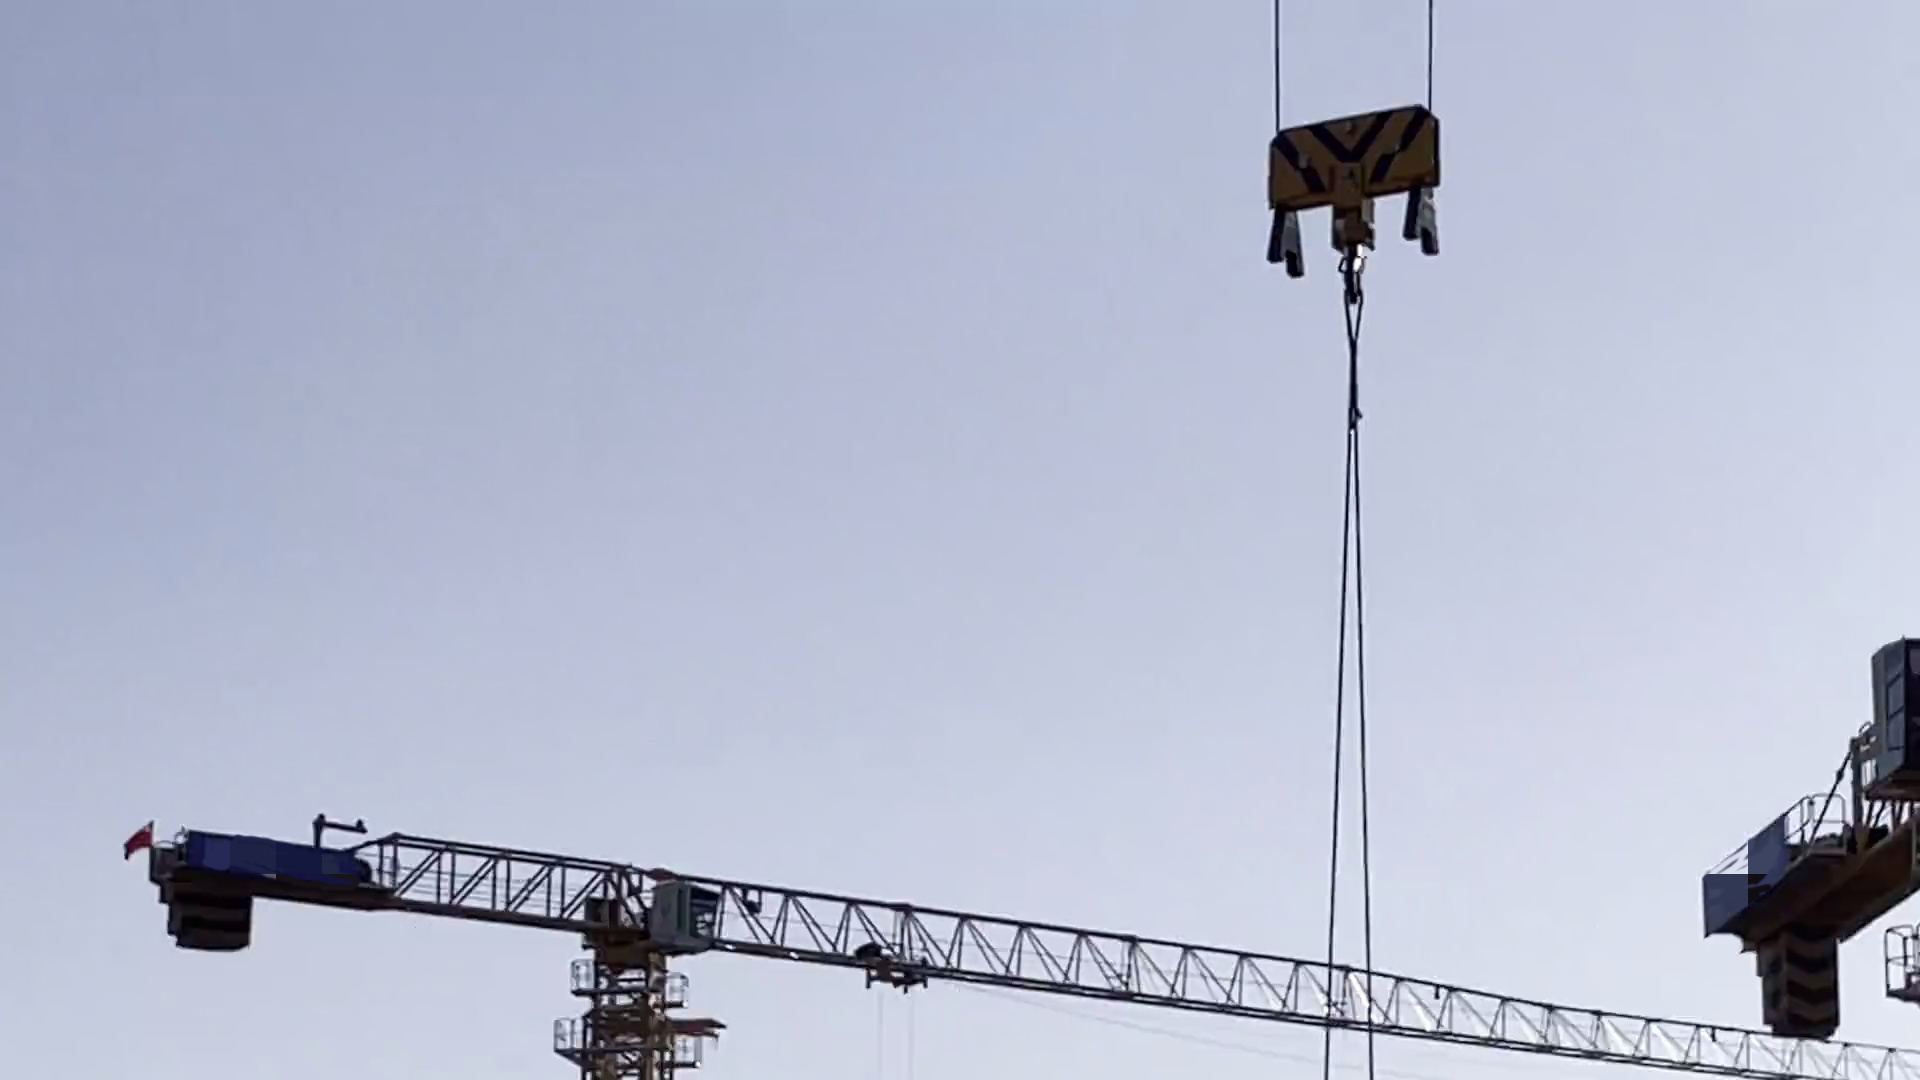hook: (1263, 107, 1437, 298)
